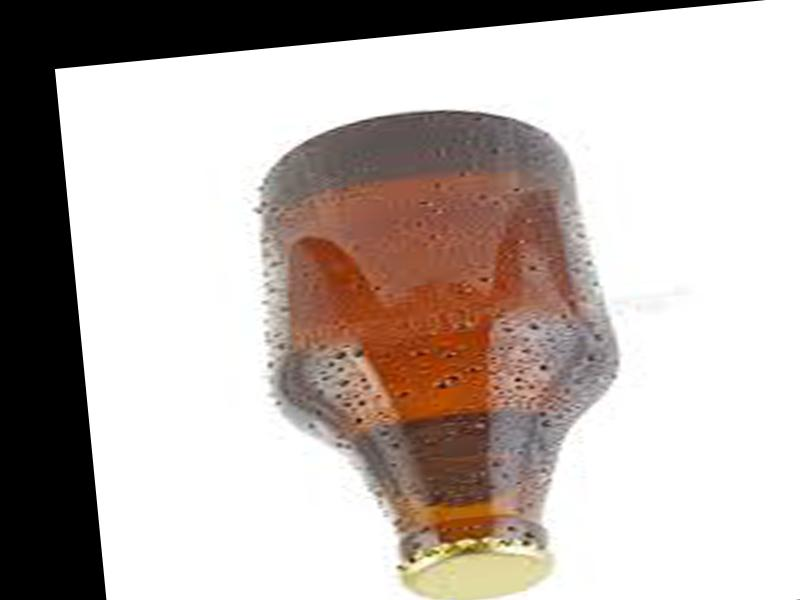Beer: (254, 99, 615, 600)
